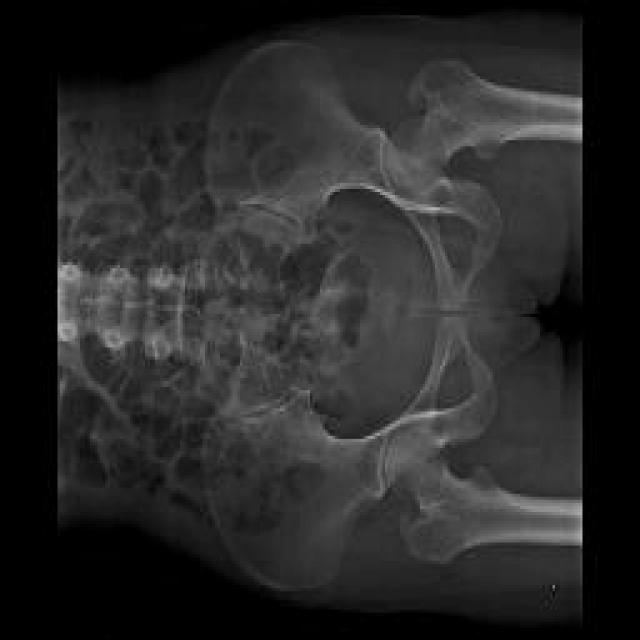normal: (206, 322, 581, 590), (206, 48, 583, 313)
